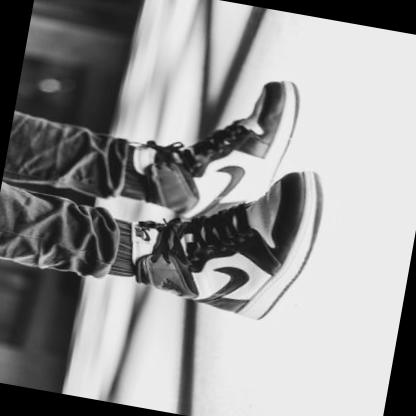ankle: (171, 285, 175, 288)
heel: (233, 307, 239, 312)
pinky: (290, 224, 298, 227)
right_foot: (140, 144, 323, 326)
toe: (278, 178, 284, 182)
